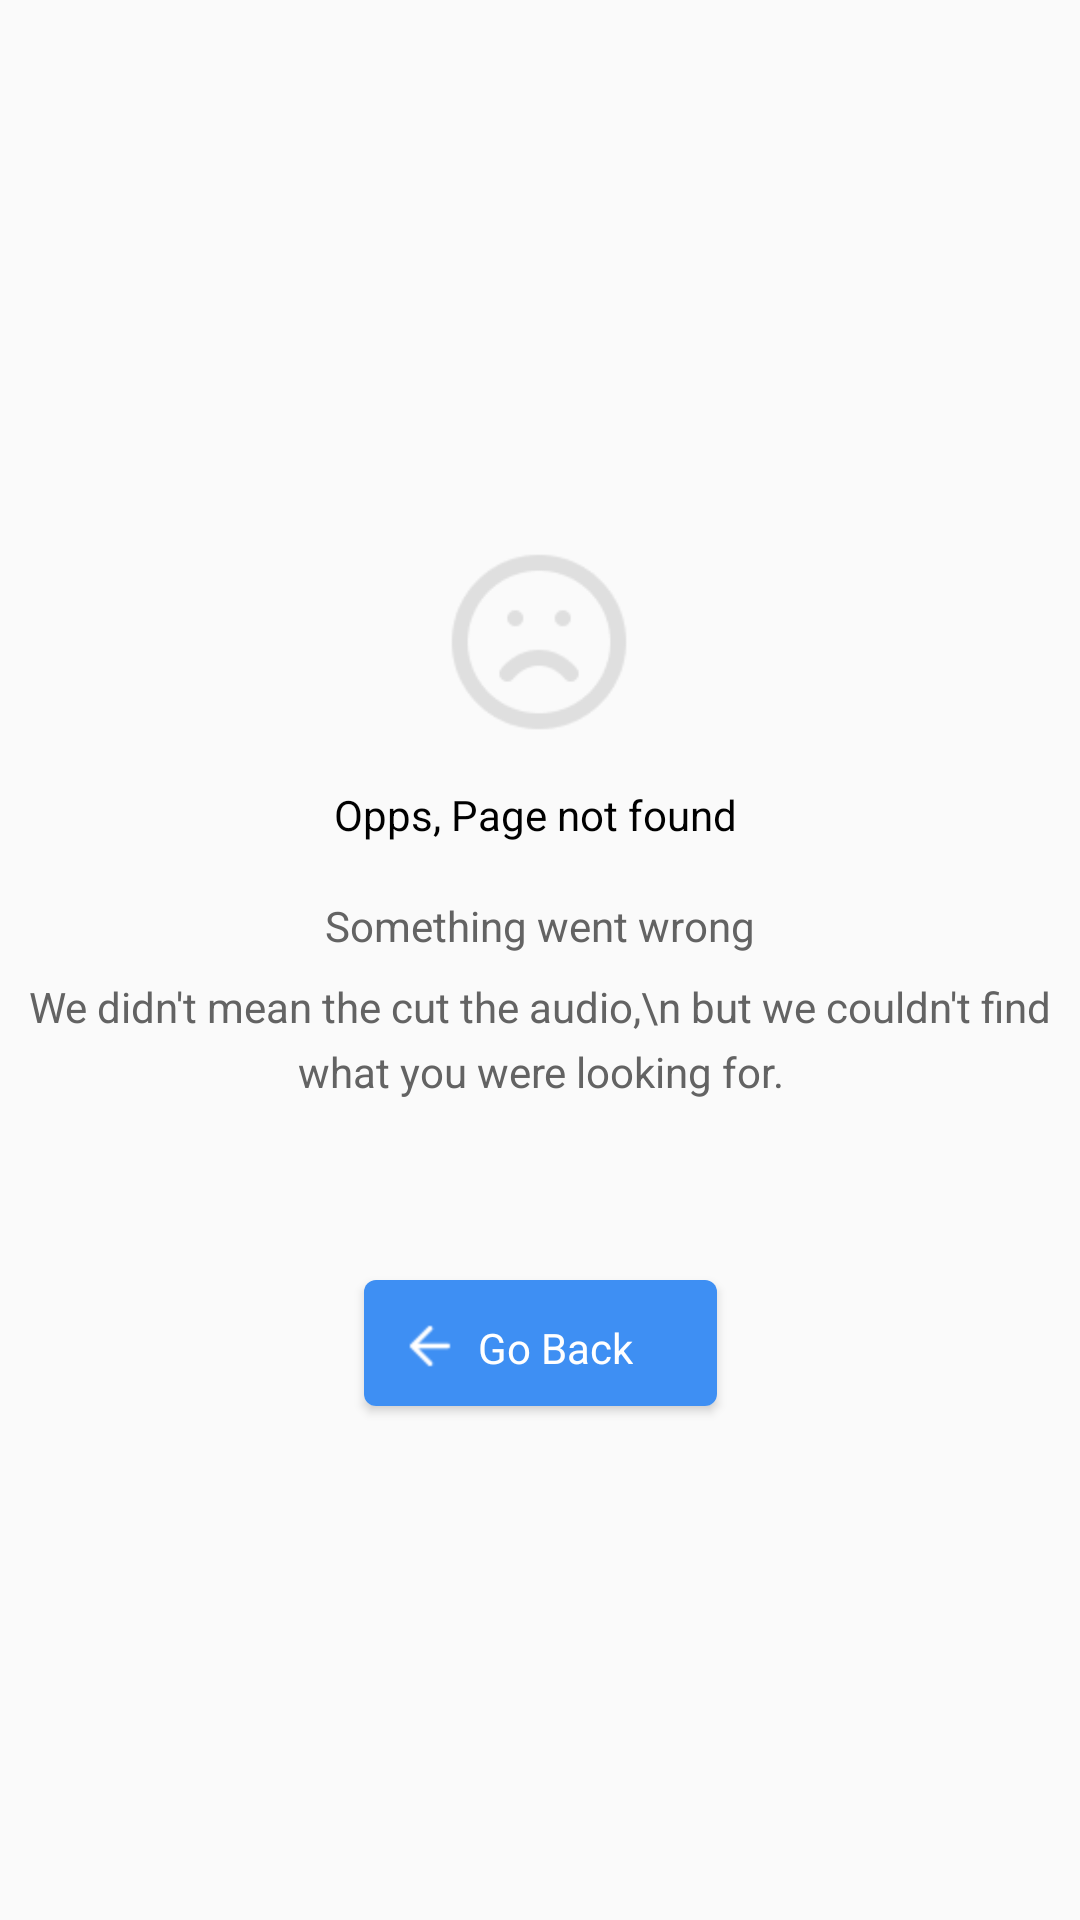

Named icons in this screenshot (1080*1920) and their centers, (x,y):
arrow left: (430,1346)
frown: (539,642)
